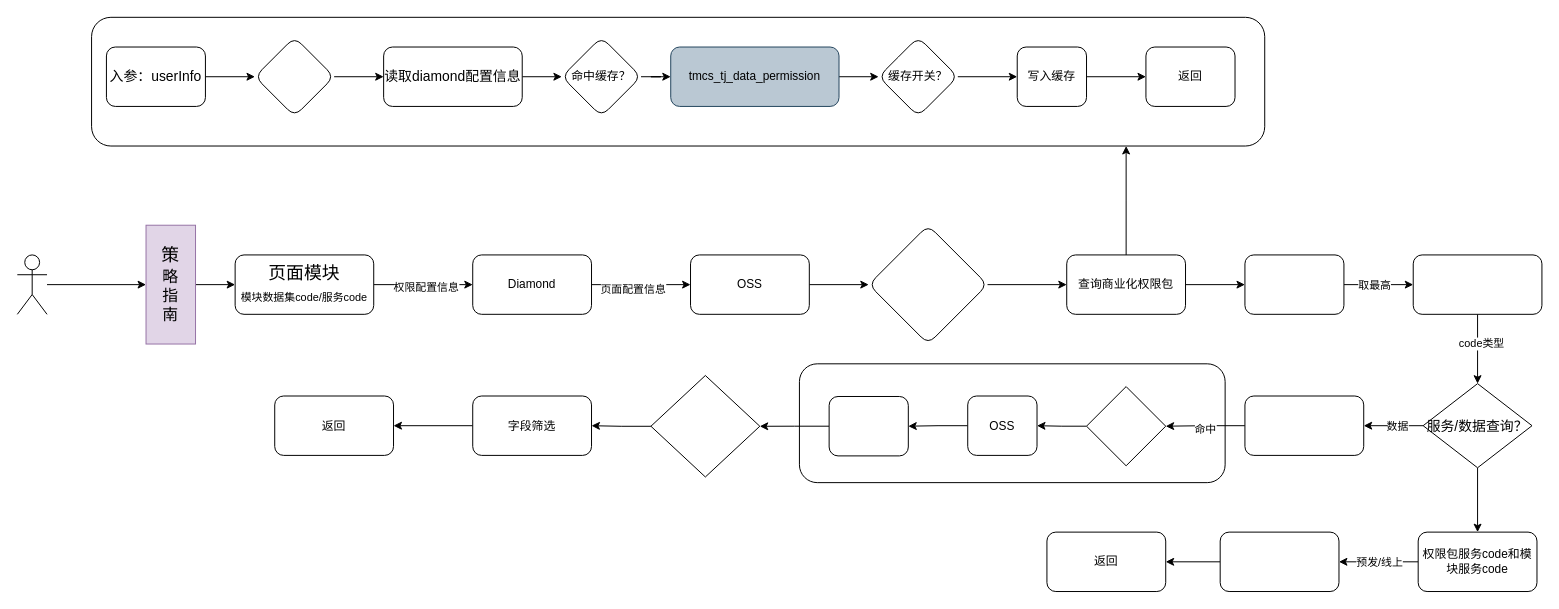
This 1559x609 diagram has some shape labels left out. Here are the shapes that lost their labels. From the top down, the centre of each, then its label:
At point (294, 76): "小二？".
At point (928, 284): "比较功能点编码和页面识别码".
At point (1294, 284): "版本最高权限包".
At point (1477, 284): "白名单权限包取".
At point (705, 426): "当前查询的数据集是否有权限？".
At point (868, 426): "Redis".
At point (1126, 426): "Redis？".
At point (1304, 425): "OdapDataApiClient".
At point (1279, 561): "前端请求服务地址".
